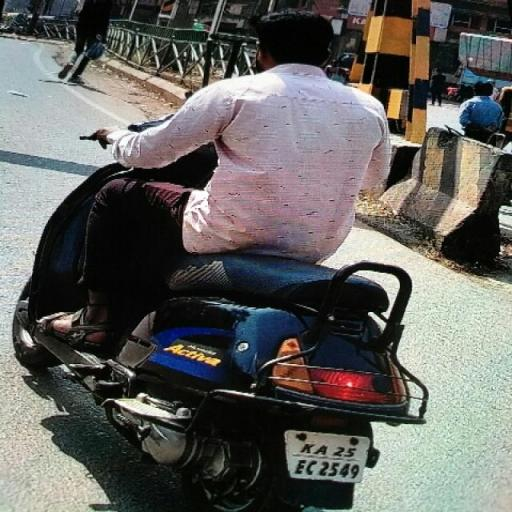bike: (12, 9, 430, 512)
numberplate: (284, 428, 372, 484)
withouthelmet: (256, 16, 334, 66)
